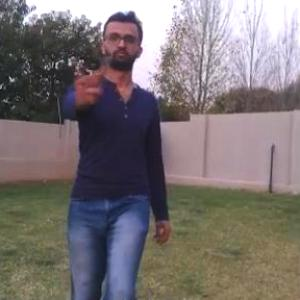takeoff-hand: (66, 53, 116, 111)
